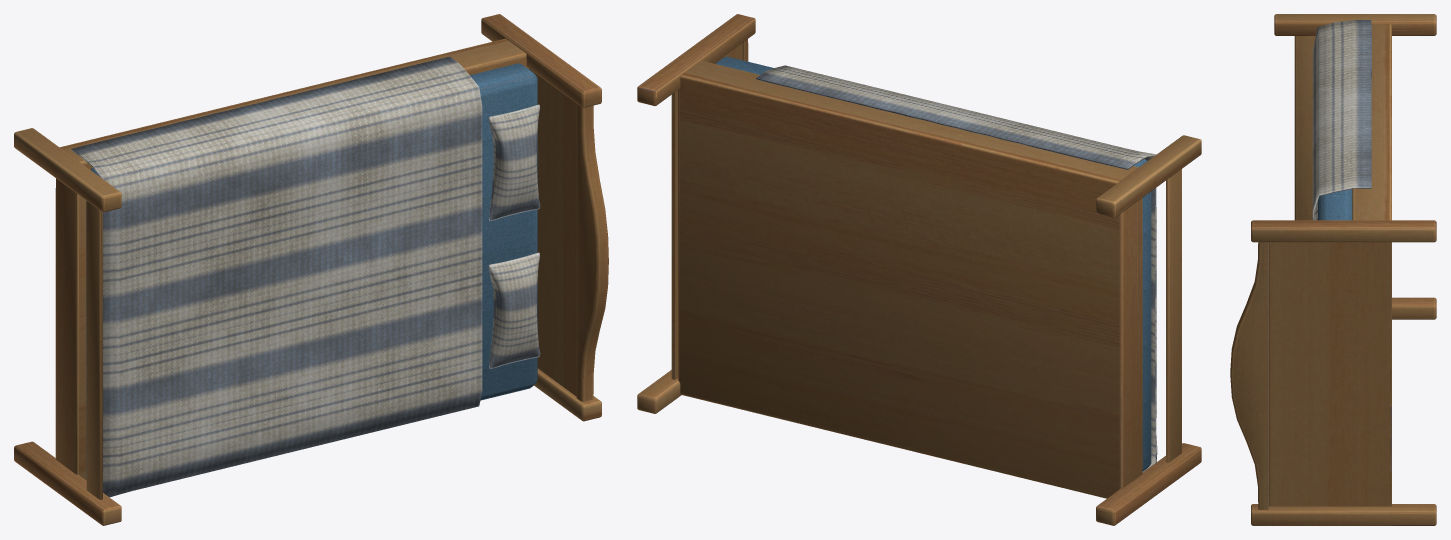
Rendered from Bed.obj.
The picture shows the model from 3 angles, left to right: view 1: azimuth 30°, elevation 25°; view 2: azimuth 150°, elevation 25°; view 3: azimuth 270°, elevation 25°; orthographic projection. The views are drawn at different scales.
Visible parts, largest first — view 1: bed; view 2: bed; view 3: bed.
Boxes of the visible parts, x1,y1,x2,y2 form: bed: [14, 14, 608, 525]; bed: [637, 14, 1201, 525]; bed: [1230, 14, 1436, 525].
Bounding box in the file's own units: 3.27 × 2.17 × 1.33.
1 material, 1 textured.
